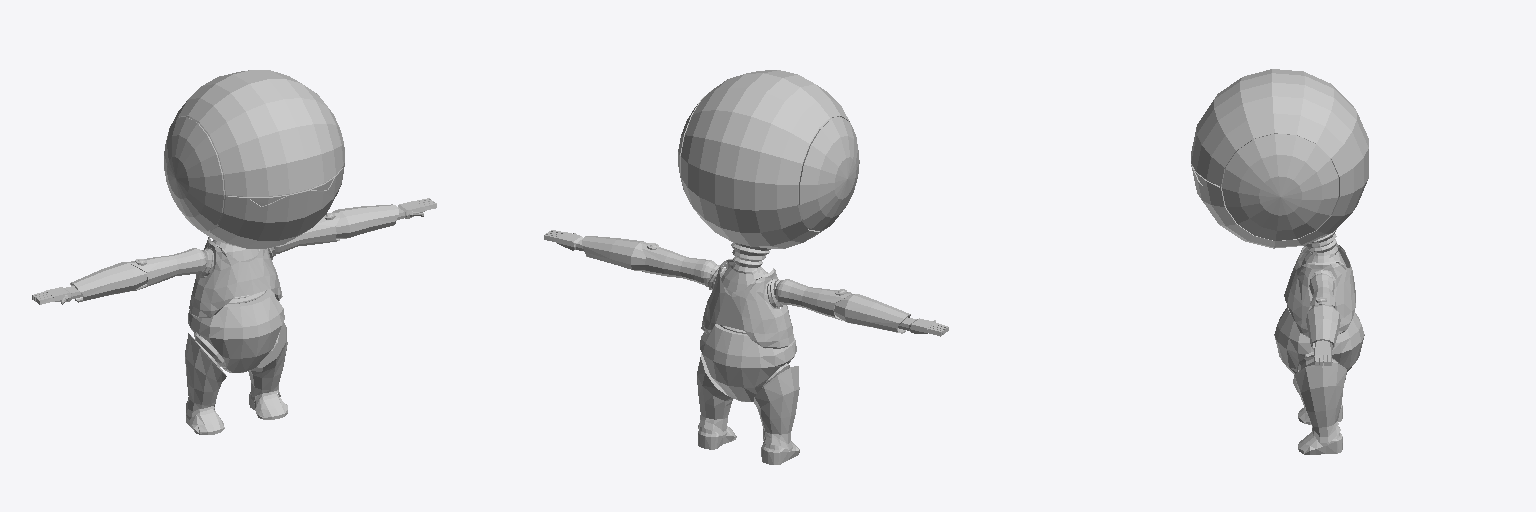
File: marvin.obj
The picture shows the model from 3 angles: view 1: azimuth 30°, elevation 25°; view 2: azimuth 150°, elevation 25°; view 3: azimuth 270°, elevation 25°; orthographic projection.
Visible parts, largest first — view 1: pSphere1, polySurface3.001, pCube4, pCube2, pCylinder6, pSphere2, polySurface9, polySurface7; view 2: pSphere1, polySurface3.001, pCube4, pCube2, pCylinder6, pSphere2, polySurface9, polySurface7; view 3: pSphere1, polySurface3.001, pCube2, pCube4, pCylinder6, polySurface9, pSphere2.
Boxes of the visible parts, x1=… form: pSphere1: x1=164, y1=70, x2=344, y2=248; polySurface3.001: x1=185, y1=322, x2=287, y2=434; pCube4: x1=188, y1=289, x2=284, y2=372; pCube2: x1=189, y1=237, x2=282, y2=317; pCylinder6: x1=70, y1=204, x2=398, y2=302; pSphere2: x1=130, y1=212, x2=339, y2=290; polySurface9: x1=201, y1=240, x2=266, y2=303; polySurface7: x1=32, y1=286, x2=83, y2=304; pSphere1: x1=678, y1=70, x2=859, y2=248; polySurface3.001: x1=697, y1=353, x2=799, y2=464; pCube4: x1=700, y1=324, x2=796, y2=401; pCube2: x1=701, y1=259, x2=793, y2=348; pCylinder6: x1=582, y1=236, x2=910, y2=333; pSphere2: x1=642, y1=243, x2=851, y2=320; polySurface9: x1=720, y1=242, x2=779, y2=333; polySurface7: x1=898, y1=317, x2=948, y2=336; pSphere1: x1=1191, y1=69, x2=1368, y2=248; polySurface3.001: x1=1293, y1=363, x2=1346, y2=454; pCube2: x1=1284, y1=244, x2=1355, y2=337; pCube4: x1=1274, y1=306, x2=1364, y2=374; pCylinder6: x1=1306, y1=305, x2=1340, y2=349; polySurface9: x1=1301, y1=229, x2=1345, y2=289; pSphere2: x1=1307, y1=273, x2=1336, y2=312.
Size of the model in its own units: 1012 by 865 by 393.